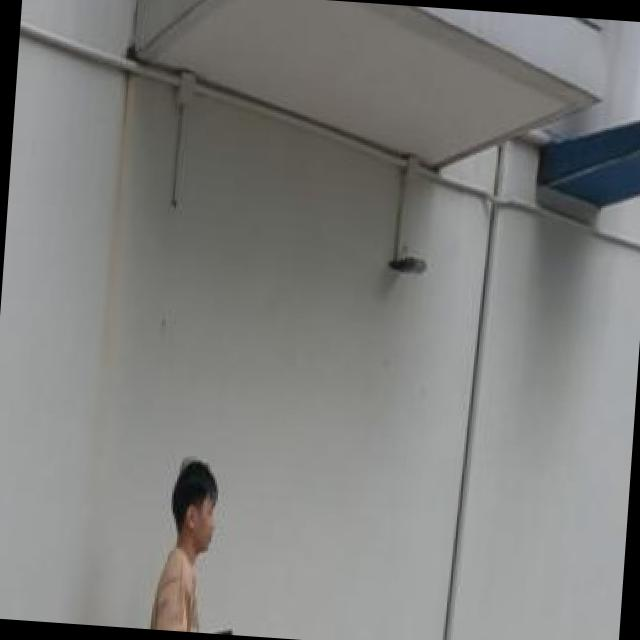Guns: (190, 620, 237, 635)
